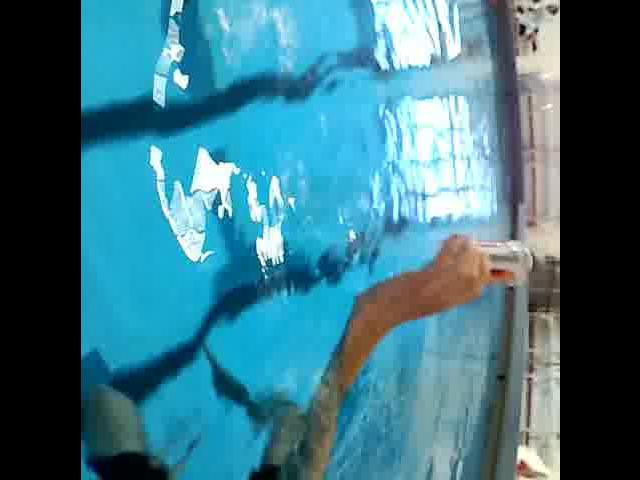Bottle: (470, 234, 533, 288)
